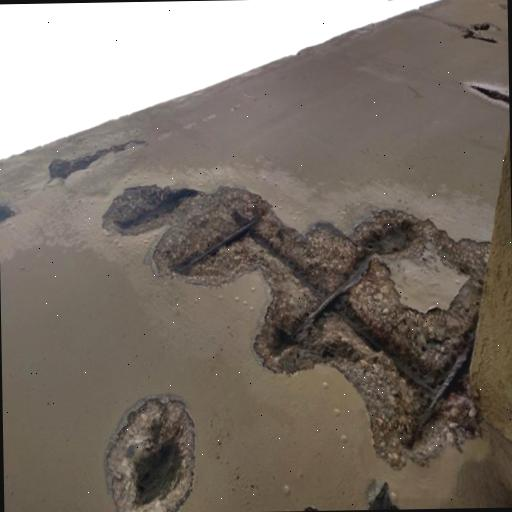spalling: (93, 176, 487, 466), (94, 389, 200, 512)
